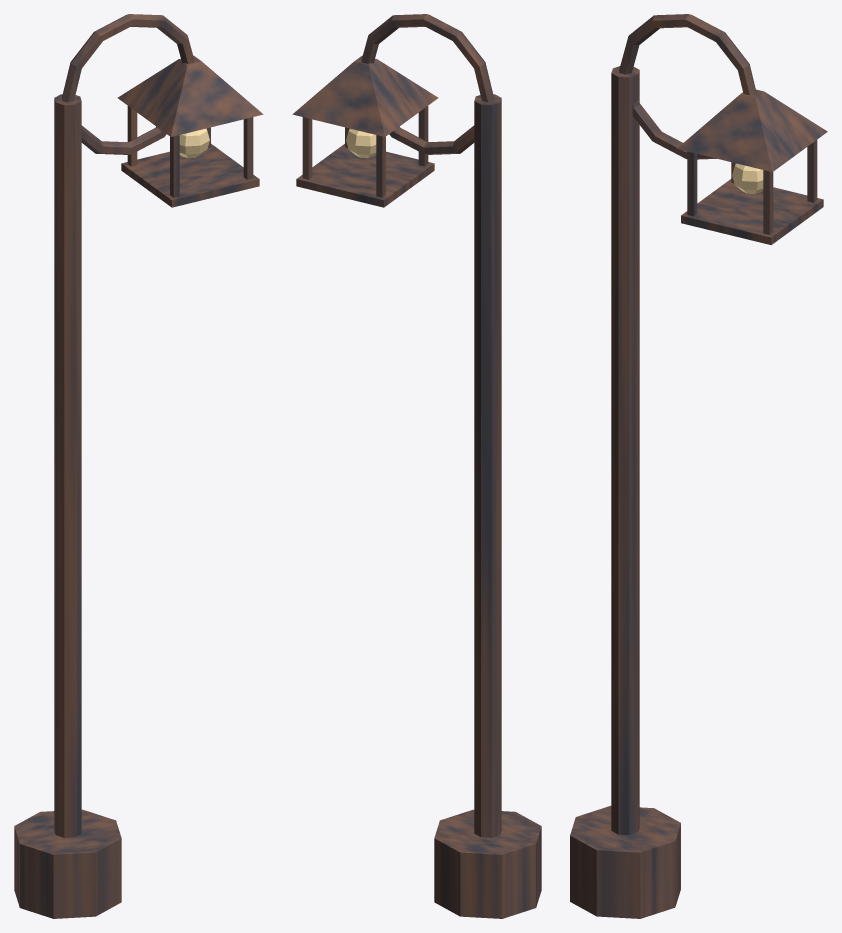
File: Lamp.fbx
3 views of the same model, side by side, from view 1: azimuth 30°, elevation 25°; view 2: azimuth 150°, elevation 25°; view 3: azimuth 330°, elevation 25° (orthographic). The views are drawn at different scales.
Visible parts, largest first — view 1: Lamp, Bulb; view 2: Lamp, Bulb; view 3: Lamp, Bulb.
Part boxes in pixels (box(x1,y1,x2,y2)): Lamp: box(14, 14, 263, 918); Bulb: box(179, 128, 209, 158); Lamp: box(292, 14, 541, 918); Bulb: box(346, 128, 376, 158); Lamp: box(570, 14, 827, 918); Bulb: box(732, 163, 763, 193).
Bounding box in the file's own units: 2.48 × 9.47 × 1.1.
2 materials, 1 textured.
